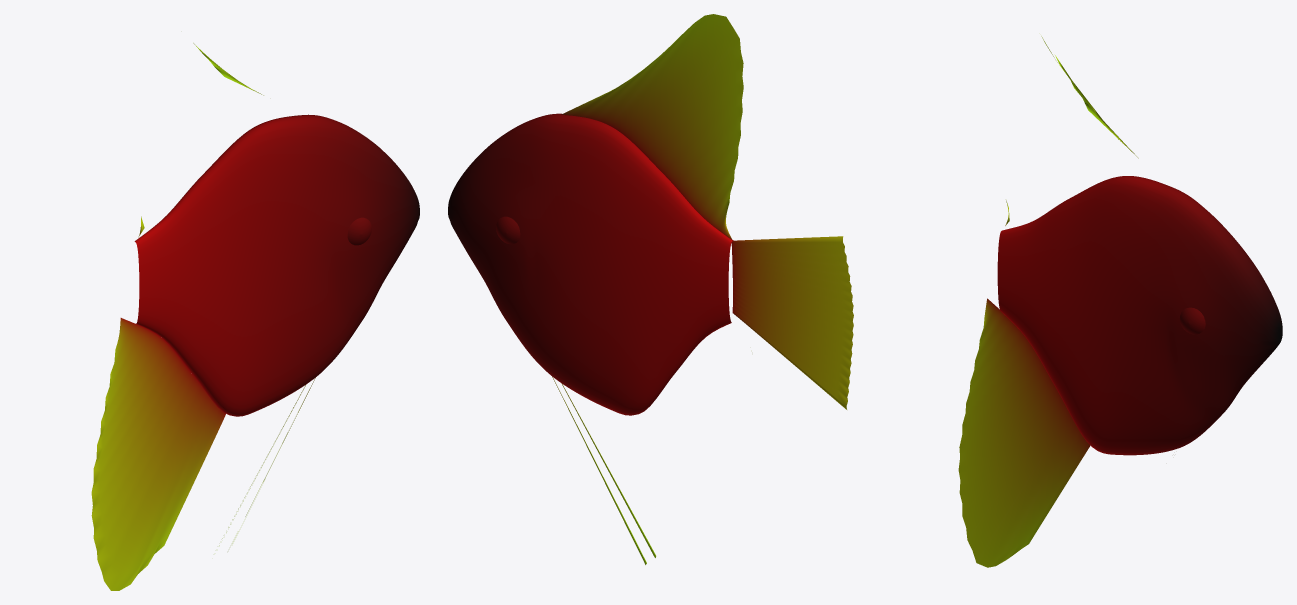
File: angelfish_blue.glb
3 views of the same model, side by side, from view 1: azimuth 30°, elevation 25°; view 2: azimuth 150°, elevation 25°; view 3: azimuth 330°, elevation 25° (orthographic).
Visible parts, largest first — view 1: body, eye; view 2: body, eye; view 3: body, eye.
Part boxes in pixels (x1,y1,x2,y2): body: (91,43,419,590); eye: (347,217,371,245); body: (448,14,853,564); eye: (496,216,520,244); body: (958,36,1282,567); eye: (1180,307,1205,334).
Bounding box in the file's own units: 0.2 × 0.2694 × 0.0313.
